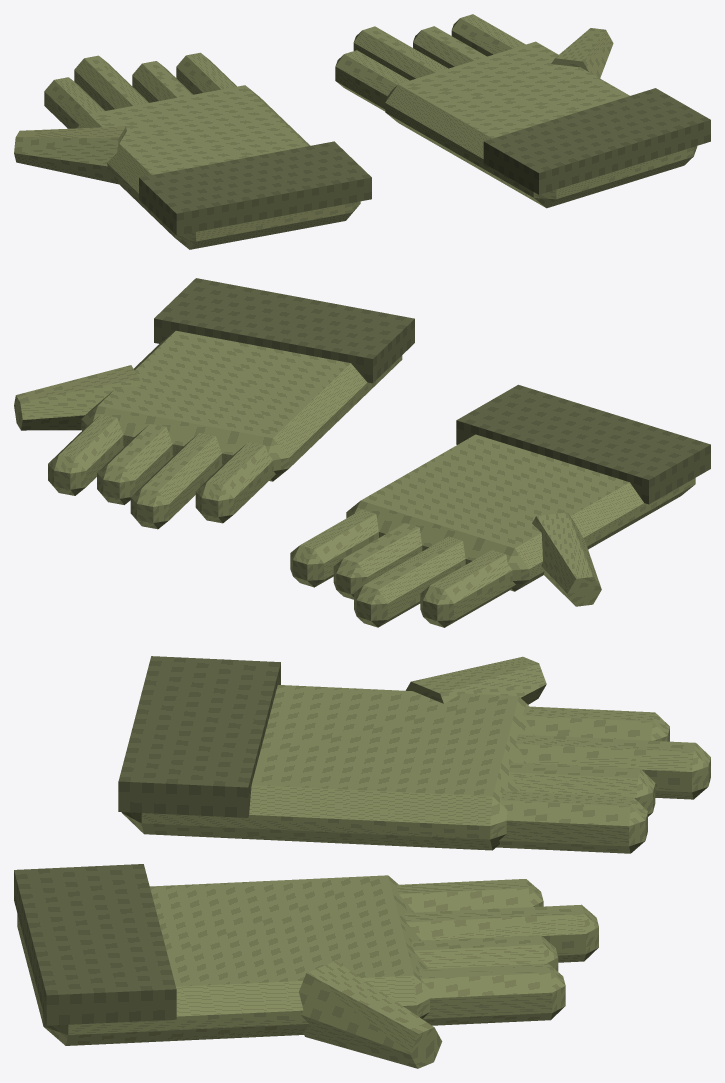
Rendered from gloves_wool.glb.
3 views of the same model, one above another, from view 1: azimuth 30°, elevation 25°; view 2: azimuth 150°, elevation 25°; view 3: azimuth 270°, elevation 25° (orthographic). The views are drawn at different scales.
Parts seen in each view (by area): view 1: block_palm and cuff (×2), block_rib cuff (×2), block_thumb (×2), block_finger 1 (×2), block_finger 0 (×2), block_finger 3 (×2), block_finger 2 (×2); view 2: block_palm and cuff (×2), block_rib cuff (×2), block_finger 1 (×2), block_thumb (×2), block_finger 0 (×2), block_finger 3 (×2), block_finger 2 (×2); view 3: block_palm and cuff (×2), block_rib cuff (×2), block_finger 3 (×2), block_finger 1 (×2), block_thumb (×2), block_finger 2 (×2), block_finger 0 (×2).
Part boxes in pixels (left/top/right/bottom): block_palm and cuff (×2): left=77, top=41, right=697, bottom=249; block_rib cuff (×2): left=139, top=88, right=710, bottom=235; block_thumb (×2): left=14, top=28, right=613, bottom=184; block_finger 1 (×2): left=74, top=26, right=447, bottom=110; block_finger 0 (×2): left=44, top=50, right=409, bottom=128; block_finger 3 (×2): left=176, top=14, right=525, bottom=94; block_finger 2 (×2): left=132, top=26, right=486, bottom=102; block_palm and cuff (×2): left=81, top=330, right=695, bottom=591; block_rib cuff (×2): left=154, top=278, right=710, bottom=504; block_finger 1 (×2): left=130, top=433, right=465, bottom=627; block_thumb (×2): left=14, top=365, right=601, bottom=606; block_finger 0 (×2): left=195, top=442, right=515, bottom=627; block_finger 3 (×2): left=48, top=414, right=378, bottom=587; block_finger 2 (×2): left=97, top=423, right=422, bottom=599; block_palm and cuff (×2): left=17, top=685, right=535, bottom=1045; block_rib cuff (×2): left=14, top=656, right=280, bottom=1025; block_finger 3 (×2): left=418, top=791, right=647, bottom=1025; block_finger 1 (×2): left=404, top=734, right=710, bottom=962; block_thumb (×2): left=299, top=656, right=546, bottom=1068; block_finger 2 (×2): left=411, top=762, right=655, bottom=971; block_finger 0 (×2): left=396, top=706, right=669, bottom=912.
Bounding box in the file's own units: 0.2433 × 0.0195 × 0.1868.
1 material, 1 textured.
